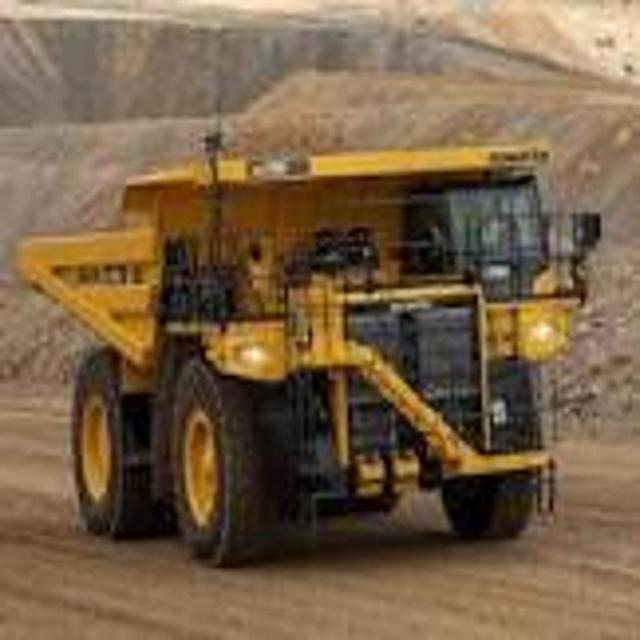dump_truck: (17, 133, 605, 570)
